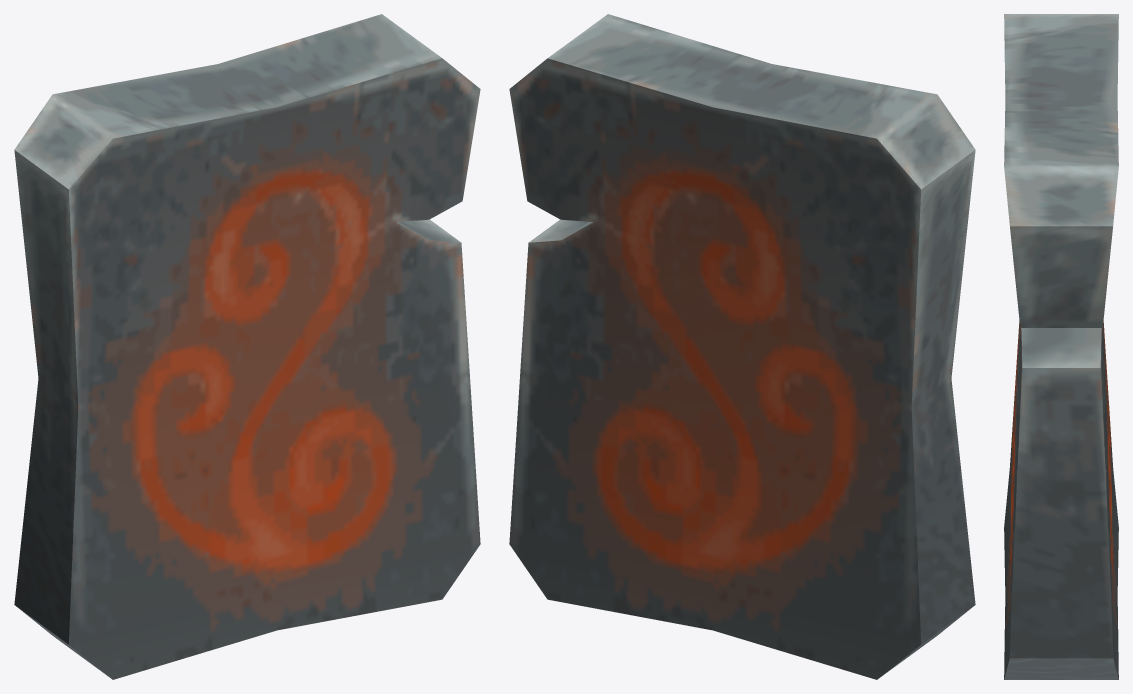
The model's file is stemple_orange_glyph_ecf55996.glb.
3 renders of one model, left to right at view 1: azimuth 30°, elevation 25°; view 2: azimuth 150°, elevation 25°; view 3: azimuth 270°, elevation 25°, orthographic. The views are drawn at different scales.
Size of the model in its own units: 0.5859 by 0.7361 by 0.1492.
1 material, 1 textured.
